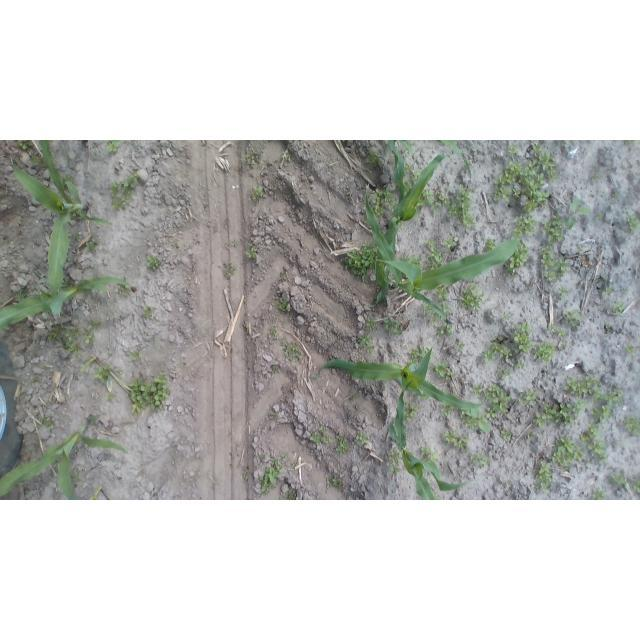Maize: (365, 182, 521, 321), (318, 347, 484, 449), (9, 141, 91, 300), (1, 418, 130, 500), (385, 154, 452, 258), (1, 276, 126, 329), (387, 426, 467, 500), (386, 141, 472, 200), (79, 353, 130, 413), (87, 488, 110, 501)
Weeds: (493, 164, 551, 212), (581, 389, 624, 442), (342, 245, 376, 282), (474, 383, 511, 414), (449, 186, 476, 227), (543, 399, 582, 425), (261, 454, 283, 494), (481, 335, 513, 361), (460, 408, 489, 434), (568, 197, 590, 231), (151, 373, 170, 409), (513, 215, 539, 240), (540, 215, 563, 243), (131, 376, 149, 411), (460, 283, 484, 309), (565, 379, 600, 395), (515, 322, 532, 354), (375, 188, 394, 216), (533, 342, 556, 363), (282, 339, 303, 361), (421, 190, 445, 209), (509, 250, 527, 275), (427, 238, 442, 268), (121, 173, 138, 195), (82, 320, 97, 344), (588, 439, 608, 457), (62, 330, 79, 351), (245, 147, 260, 169), (559, 437, 578, 454), (383, 318, 402, 335), (469, 452, 489, 468), (625, 416, 640, 437), (388, 451, 401, 475), (421, 446, 439, 463), (521, 390, 539, 407), (538, 154, 557, 170), (567, 309, 582, 328), (405, 402, 419, 422), (536, 476, 553, 492), (568, 447, 585, 463), (548, 325, 568, 338), (38, 417, 55, 432), (335, 436, 349, 454), (420, 344, 435, 360), (610, 299, 627, 313), (611, 472, 626, 487), (95, 366, 109, 382), (319, 427, 332, 444), (555, 258, 570, 272), (436, 323, 451, 337), (112, 195, 127, 209), (444, 431, 458, 446), (538, 461, 551, 477), (148, 255, 160, 272), (251, 187, 263, 204), (601, 282, 613, 298), (457, 434, 468, 451), (433, 364, 447, 377), (276, 297, 289, 311), (534, 413, 547, 427), (144, 306, 156, 321), (627, 216, 637, 233), (483, 239, 496, 252), (47, 326, 59, 340), (592, 486, 604, 500), (436, 286, 448, 300), (224, 264, 235, 279), (359, 333, 370, 348), (406, 256, 422, 266), (626, 345, 639, 357), (107, 141, 119, 154), (552, 452, 564, 465), (542, 253, 553, 267), (445, 237, 456, 251), (17, 141, 34, 150), (109, 182, 120, 195), (127, 351, 140, 362), (409, 349, 419, 363), (558, 287, 570, 298), (486, 408, 497, 419), (85, 242, 96, 253), (268, 327, 279, 338), (356, 431, 367, 442), (545, 271, 556, 282), (506, 145, 518, 155), (247, 248, 257, 260), (332, 476, 342, 488), (119, 285, 129, 296), (366, 318, 374, 331), (530, 145, 540, 155), (369, 153, 379, 163), (441, 406, 452, 415), (310, 433, 319, 444), (498, 370, 508, 379), (501, 430, 511, 439), (513, 359, 524, 367), (232, 237, 240, 248), (501, 313, 510, 322), (543, 246, 554, 253), (440, 304, 451, 311), (411, 169, 418, 179), (405, 181, 412, 191), (550, 170, 558, 178), (457, 342, 465, 350), (446, 370, 454, 378), (32, 376, 41, 383), (258, 454, 266, 461), (596, 211, 603, 219), (426, 304, 432, 313), (289, 493, 296, 500), (560, 341, 568, 347), (273, 365, 279, 373), (431, 317, 437, 325), (503, 481, 508, 489), (605, 323, 611, 329), (367, 348, 374, 353)
